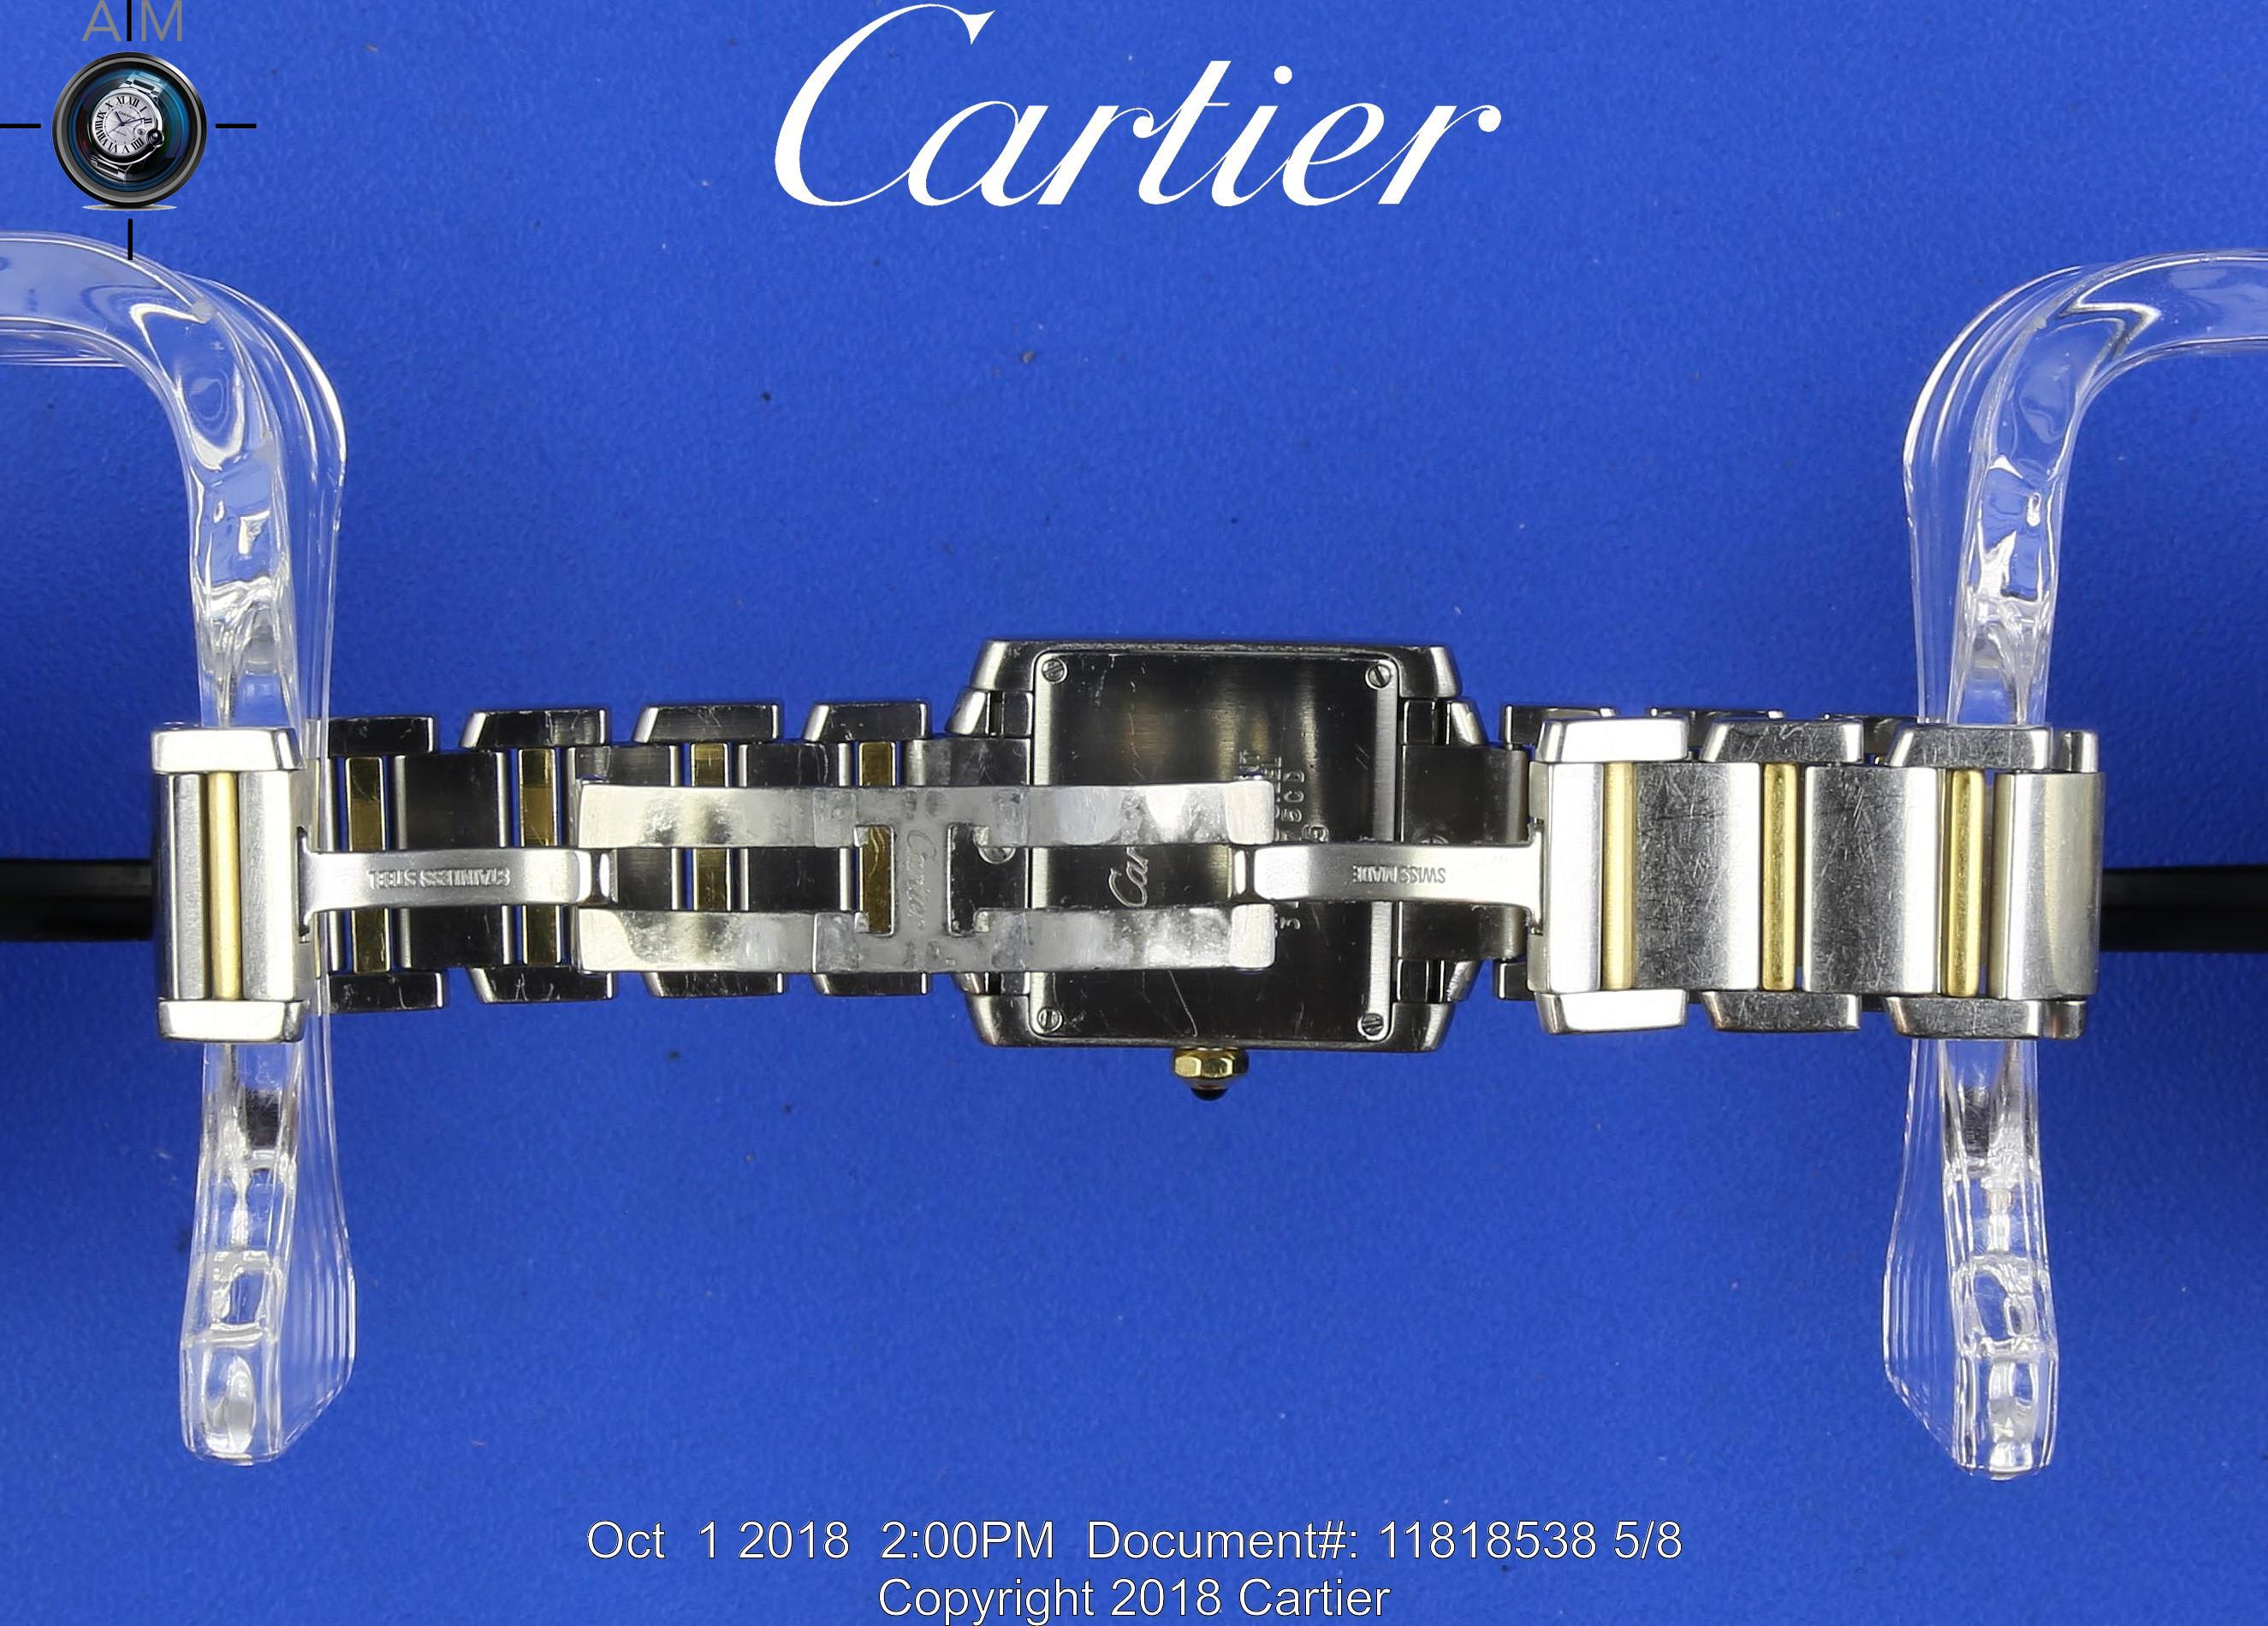watchback: (968, 649, 1460, 1070)
